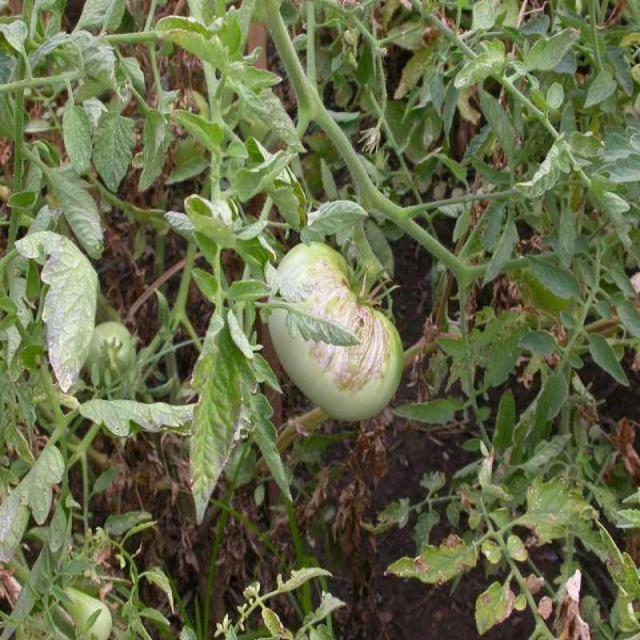Sunscald Fruit: (184, 168, 260, 265)
